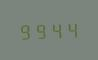four: (48, 20, 62, 39), (63, 19, 77, 38)
nine: (33, 20, 47, 40), (18, 21, 32, 40)
